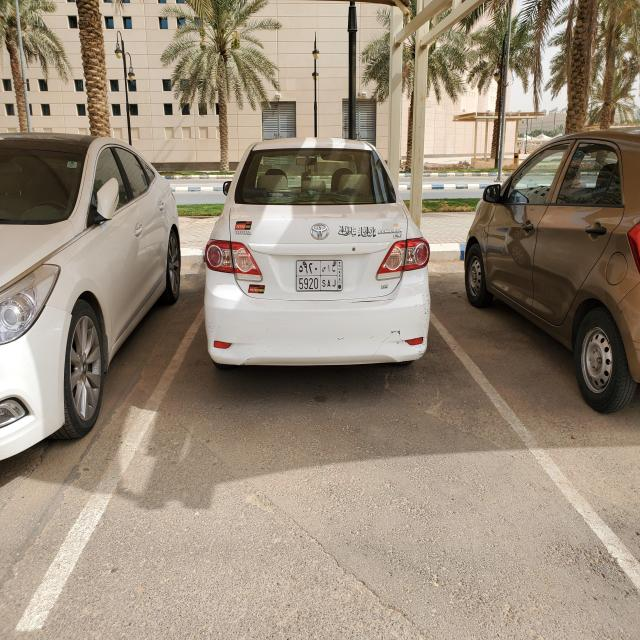license_plate: (294, 258, 343, 292)
